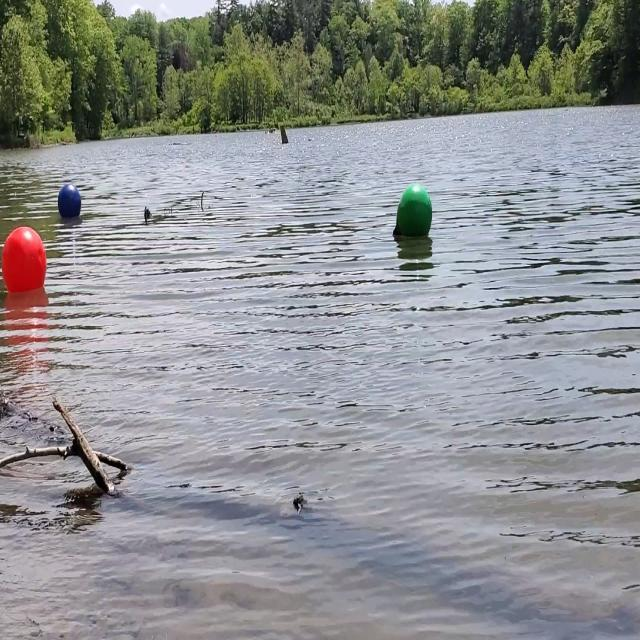buoy: (1, 222, 48, 300), (391, 179, 436, 248), (58, 180, 82, 230)
